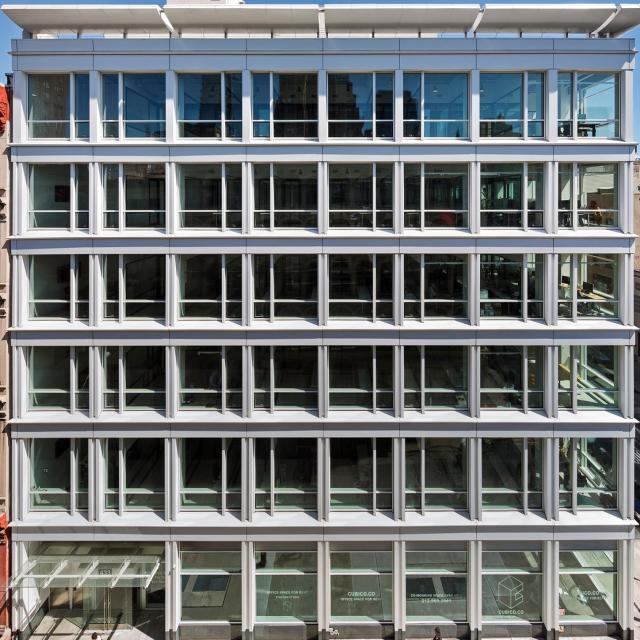door: (47, 574, 134, 628)
wall: (1, 1, 640, 639)
windows: (405, 437, 470, 512), (176, 552, 243, 624), (332, 550, 399, 622), (479, 551, 546, 623), (406, 550, 472, 622), (178, 437, 240, 513), (253, 550, 319, 621), (178, 71, 242, 144), (558, 341, 621, 414), (330, 438, 392, 512), (479, 160, 544, 230), (178, 343, 244, 411), (480, 71, 544, 140), (327, 162, 393, 228), (556, 251, 620, 319), (331, 252, 394, 321), (480, 439, 543, 508), (255, 438, 317, 508), (331, 341, 392, 412), (252, 69, 316, 136), (175, 165, 242, 229), (480, 344, 544, 411), (330, 70, 392, 139), (102, 163, 164, 232), (104, 253, 167, 320), (105, 348, 168, 415), (405, 343, 468, 410), (253, 165, 317, 230), (479, 255, 544, 319), (27, 72, 90, 138), (405, 255, 468, 321), (252, 256, 318, 319), (102, 72, 164, 138), (558, 551, 618, 619), (178, 254, 242, 317), (255, 344, 318, 408), (106, 438, 164, 507), (558, 163, 621, 226), (404, 163, 466, 227), (404, 72, 466, 136), (559, 440, 617, 508), (559, 71, 618, 135), (30, 251, 73, 319), (28, 347, 71, 415), (27, 442, 70, 509), (30, 164, 72, 232)
